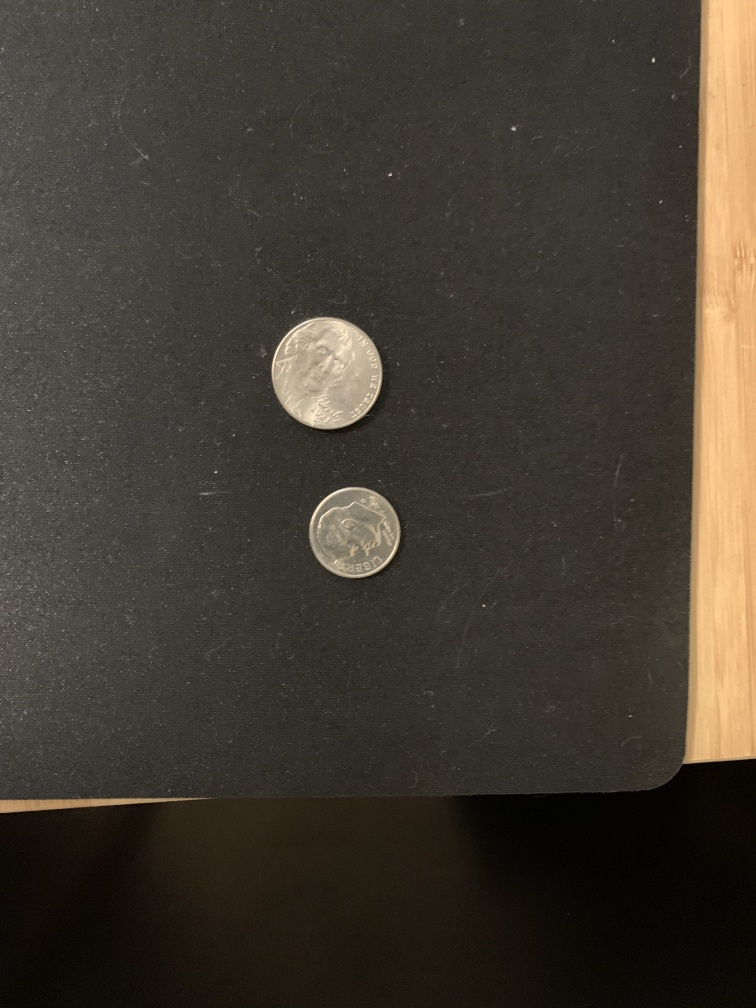dime: (303, 482, 408, 590)
nickel: (266, 310, 387, 441)
